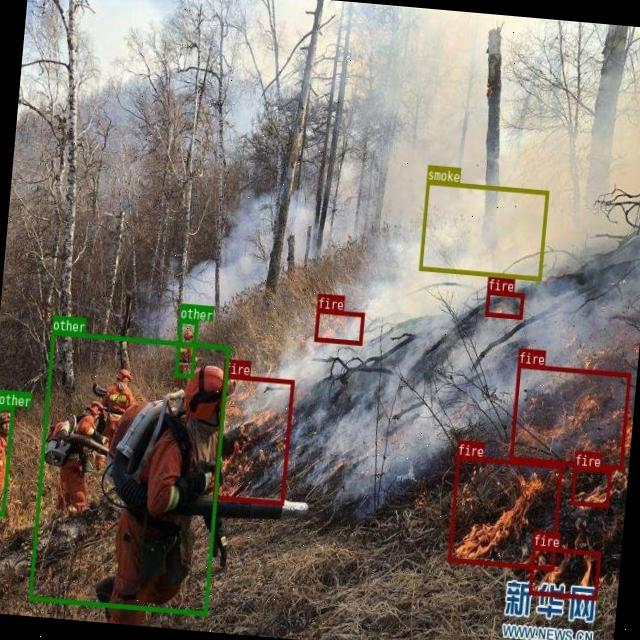fire: (447, 454, 562, 570), (508, 364, 630, 468), (211, 372, 294, 503), (527, 544, 600, 599), (313, 307, 364, 343), (570, 464, 611, 506), (485, 290, 524, 318)
smoke: (418, 179, 548, 280)
